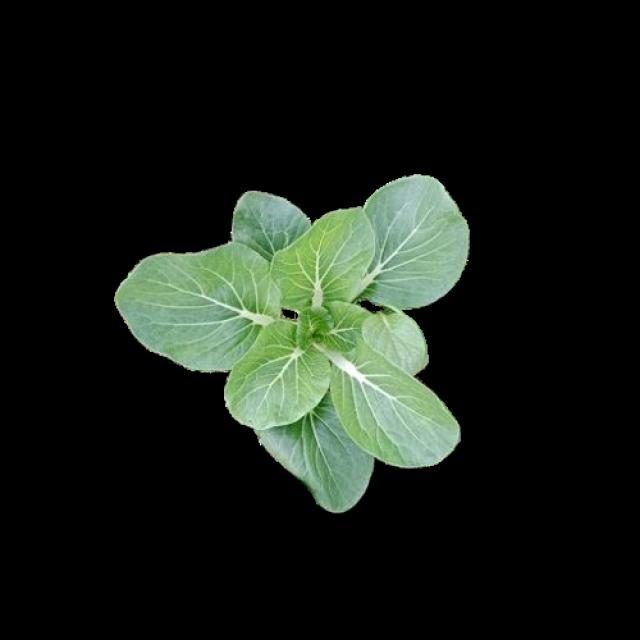healthy: (116, 176, 470, 509)
not-mature: (111, 172, 465, 504)
